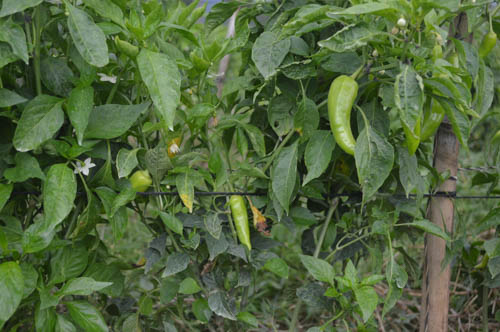ChiliPepper: (329, 74, 358, 156), (230, 196, 257, 247), (129, 170, 151, 191)
